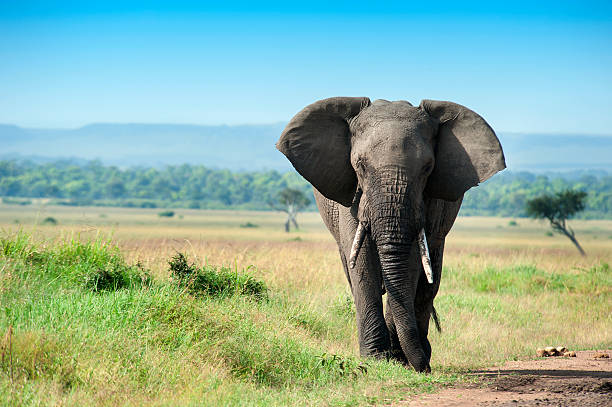africanelephant: (337, 100, 435, 285)
